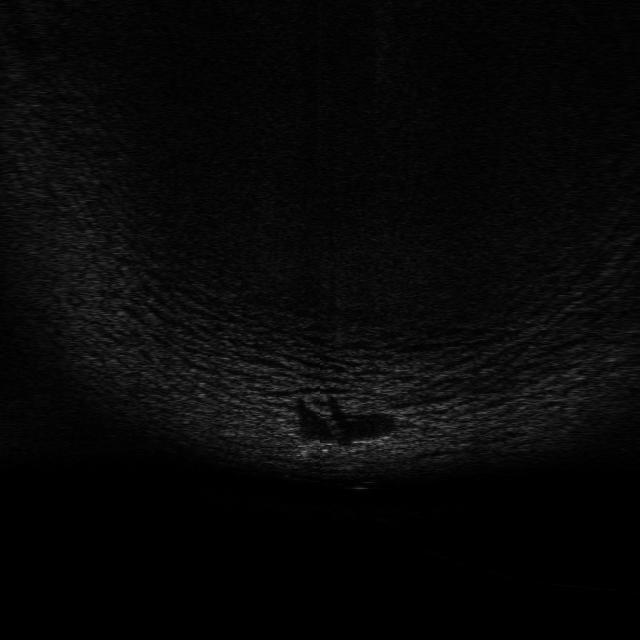plane: (292, 434, 386, 462)
